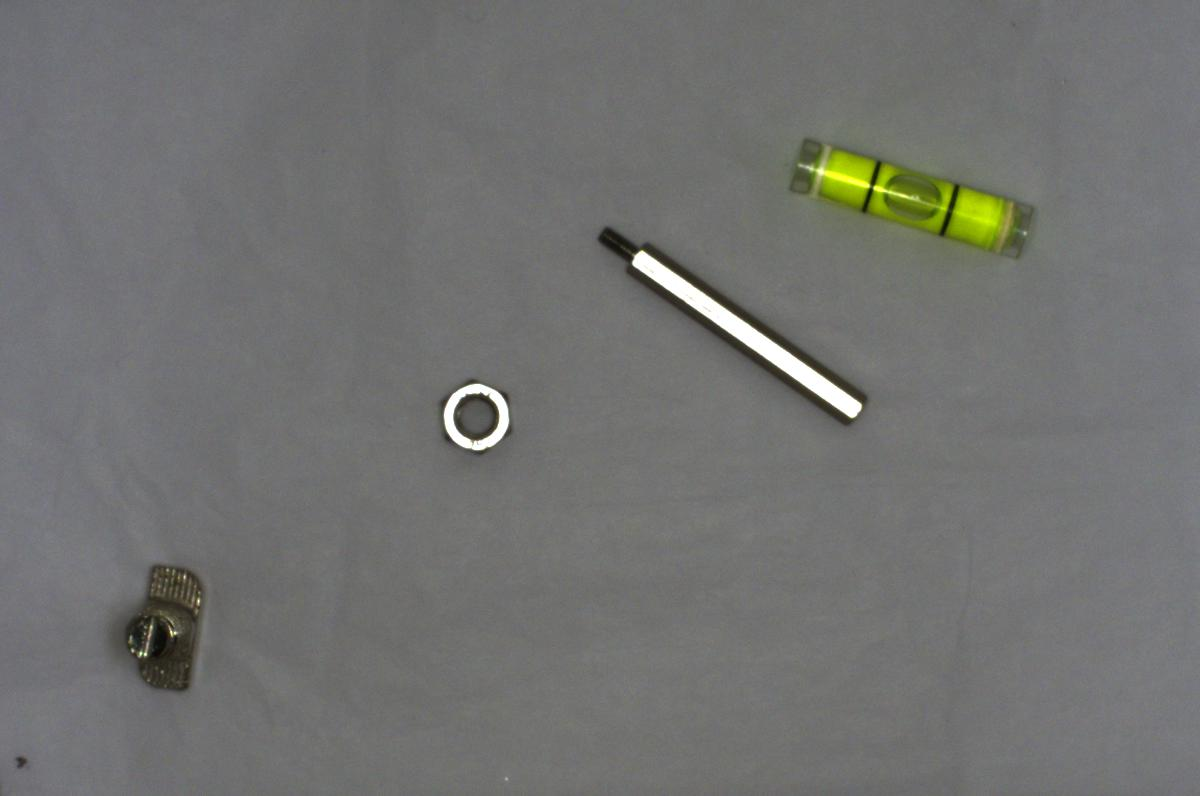Hexagon nut: (430, 379, 520, 458)
Hexagonal steel column: (593, 215, 862, 423)
Horizontal bubble: (780, 133, 1041, 266)
T-shaped screw: (117, 560, 215, 698)
